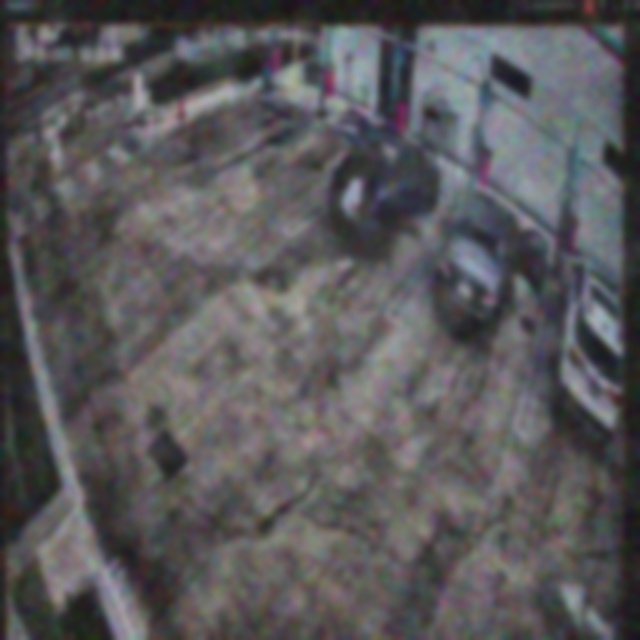Car: (436, 189, 547, 336), (332, 110, 441, 253)
